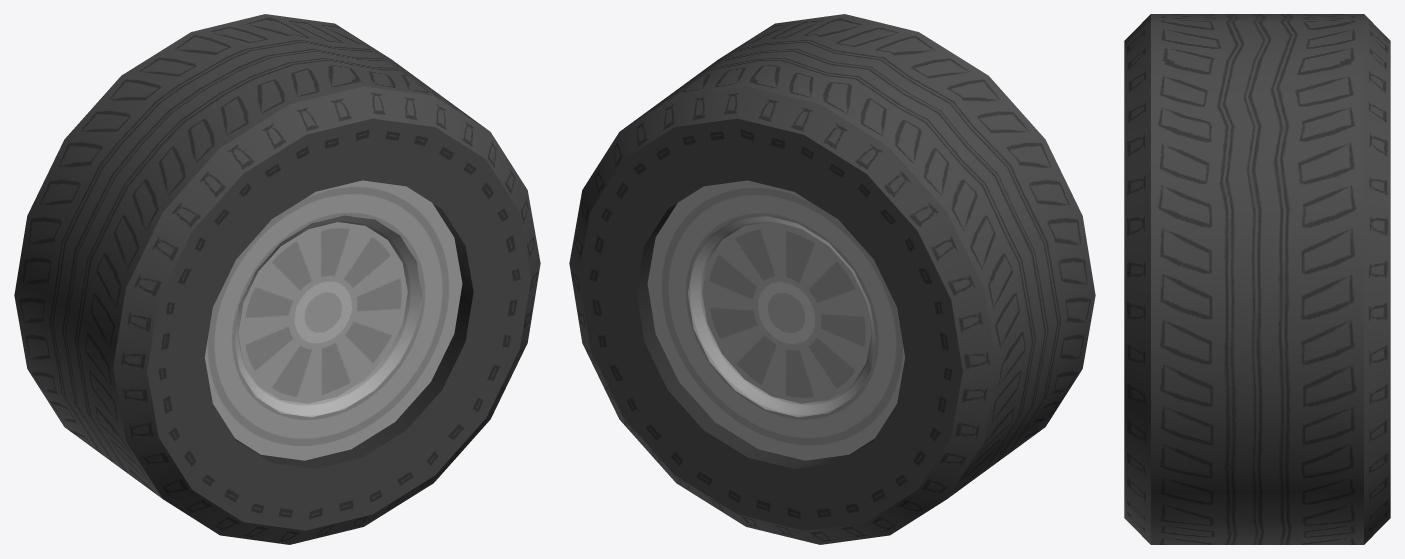
Rendered from car_wheel.glb.
The picture shows the model from 3 angles, left to right: view 1: azimuth 30°, elevation 25°; view 2: azimuth 150°, elevation 25°; view 3: azimuth 270°, elevation 25°; orthographic projection. The views are drawn at different scales.
Visible parts, largest first — view 1: car_wheel.008; view 2: car_wheel.008; view 3: car_wheel.008.
Boxes of the visible parts, box(x1,y1,x2,y2) form: car_wheel.008: box(14, 14, 540, 544); car_wheel.008: box(569, 14, 1095, 544); car_wheel.008: box(1124, 14, 1390, 544).
Bounding box in the file's own units: 0.8 × 0.7878 × 0.4.
Materials: 1 (1 with a texture image).
